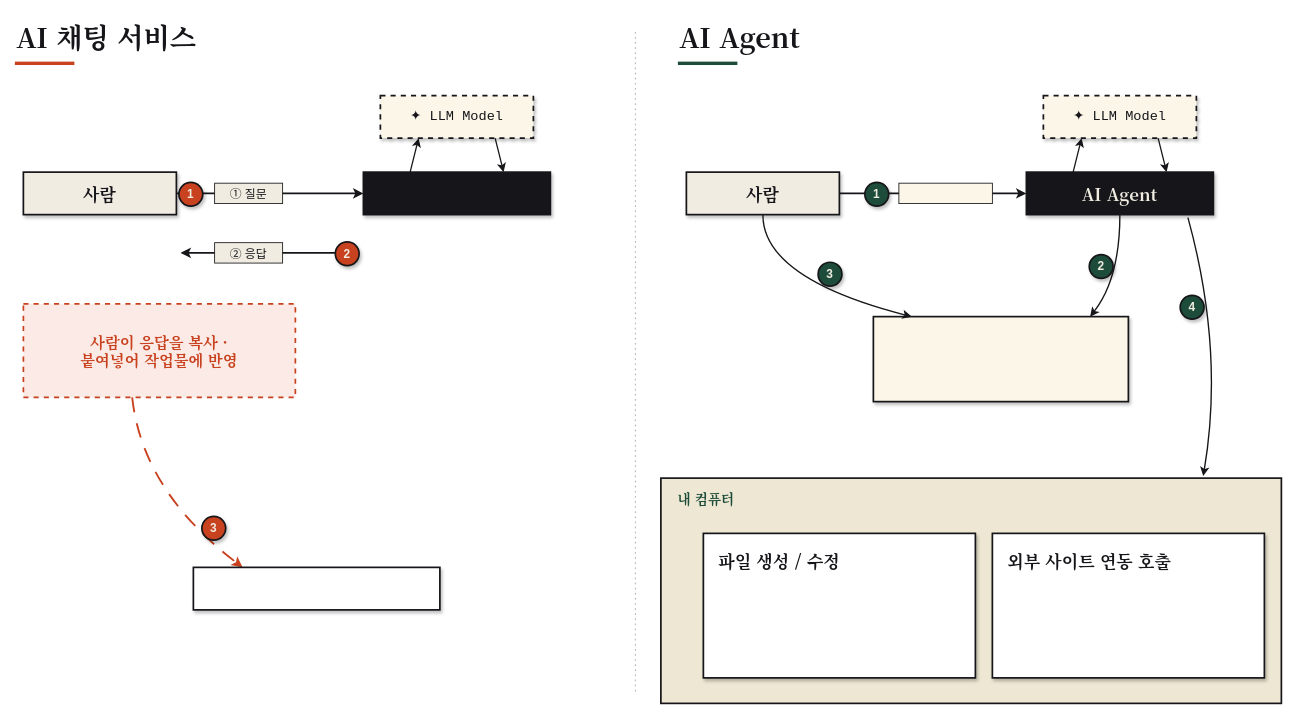
The diagram is 1296 pixels wide and 718 high, and some of its shapes have lost their labels. Here are the shapes that lost their labels. From the top down, the centre of each, then its label:
At point 457,194: "AI 채팅".
At point 945,193: "작업 지시".
At point 1001,360: "작업 계획서 AI가 초안 작성 → 사람이 보완 명령 또는 직접 수정".
At point 317,589: "작업물 / 대상 파일".
